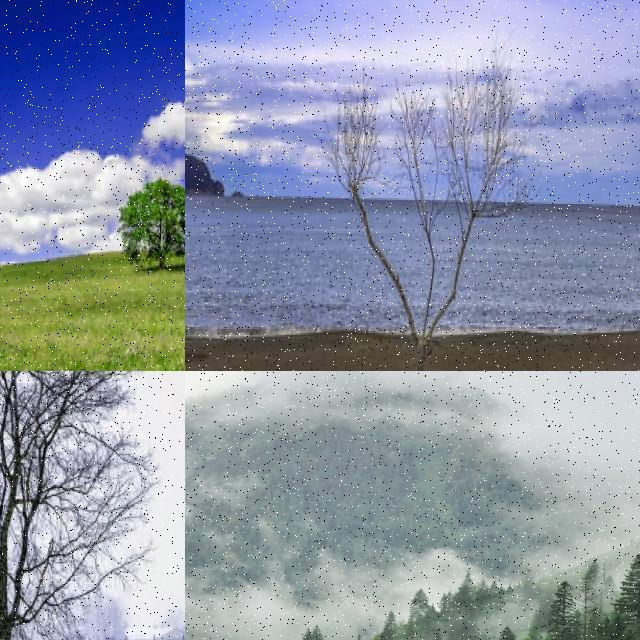tree: (321, 38, 541, 364), (0, 371, 178, 640), (118, 169, 186, 273), (544, 580, 580, 640), (612, 552, 640, 616), (578, 558, 602, 630), (410, 587, 430, 615), (382, 608, 400, 634), (300, 624, 328, 640), (614, 624, 640, 640), (497, 627, 521, 640)
